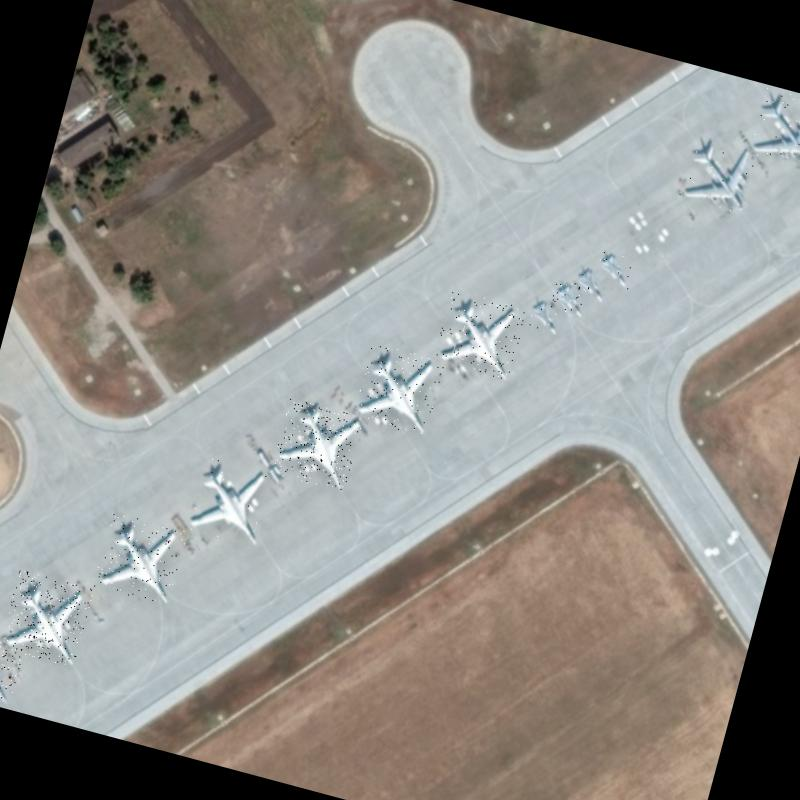A12: (0, 633, 24, 704)
A17: (676, 132, 759, 214), (748, 87, 800, 168)
A20: (592, 249, 636, 289), (568, 262, 610, 302), (524, 294, 564, 334), (548, 278, 588, 316)
A6: (92, 511, 188, 607), (0, 569, 93, 667), (432, 288, 527, 382), (270, 398, 364, 492), (352, 342, 444, 436), (184, 456, 274, 548)
